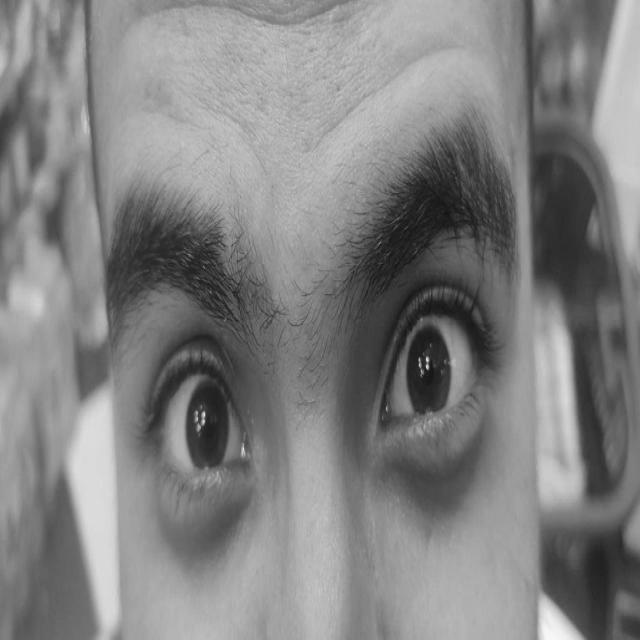real: (122, 192, 514, 558)
